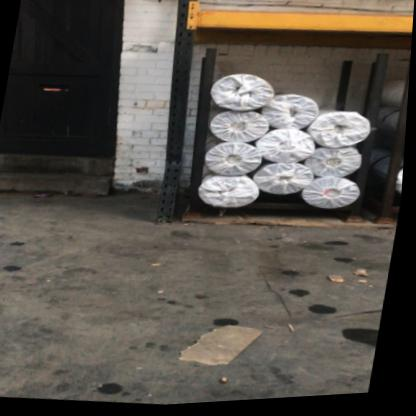vertical_damage: (155, 144, 193, 197)
